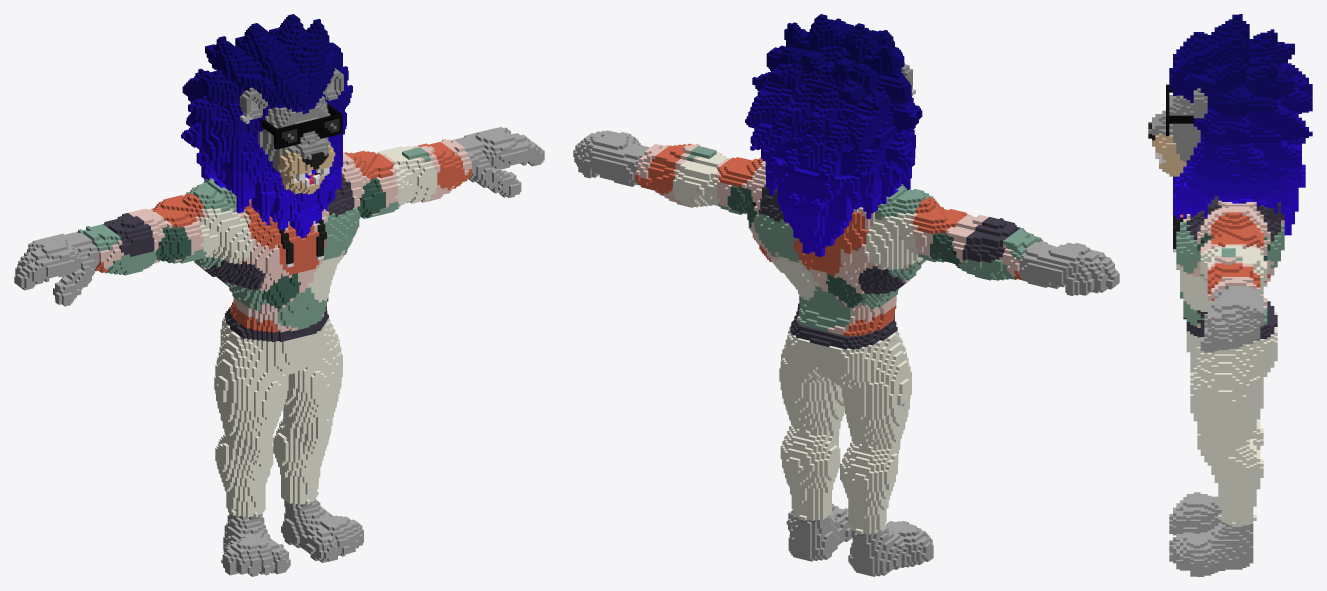
Rendered from 178-BPtJXr0M.fbx.
3 views of the same model, side by side, from view 1: azimuth 30°, elevation 25°; view 2: azimuth 150°, elevation 25°; view 3: azimuth 270°, elevation 25° (orthographic). The views are drawn at different scales.
Parts seen in each view (by area): view 1: open; view 2: open; view 3: open.
Boxes of the visible parts, x1=… form: open: x1=14, y1=14, x2=544, y2=576; open: x1=573, y1=14, x2=1119, y2=576; open: x1=1148, y1=14, x2=1312, y2=576.
Size of the model in its own units: 17.2 by 16.5 by 4.7.
6 materials, 6 textured.
